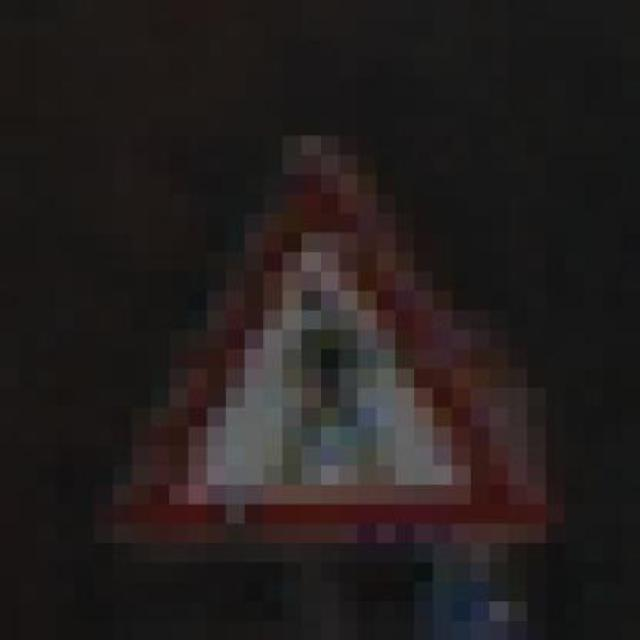Pedestrian Crossing: (76, 135, 564, 563)
